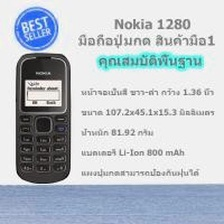phone: (11, 49, 74, 187)
